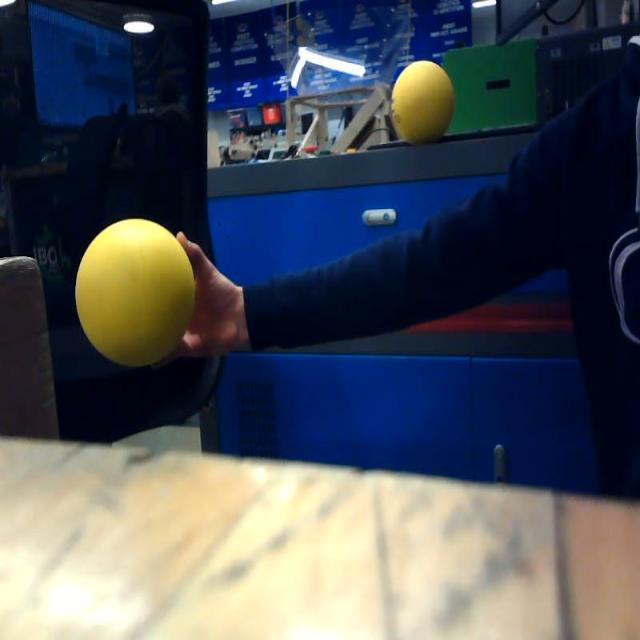Fuel: (75, 219, 195, 366), (392, 61, 454, 144)
